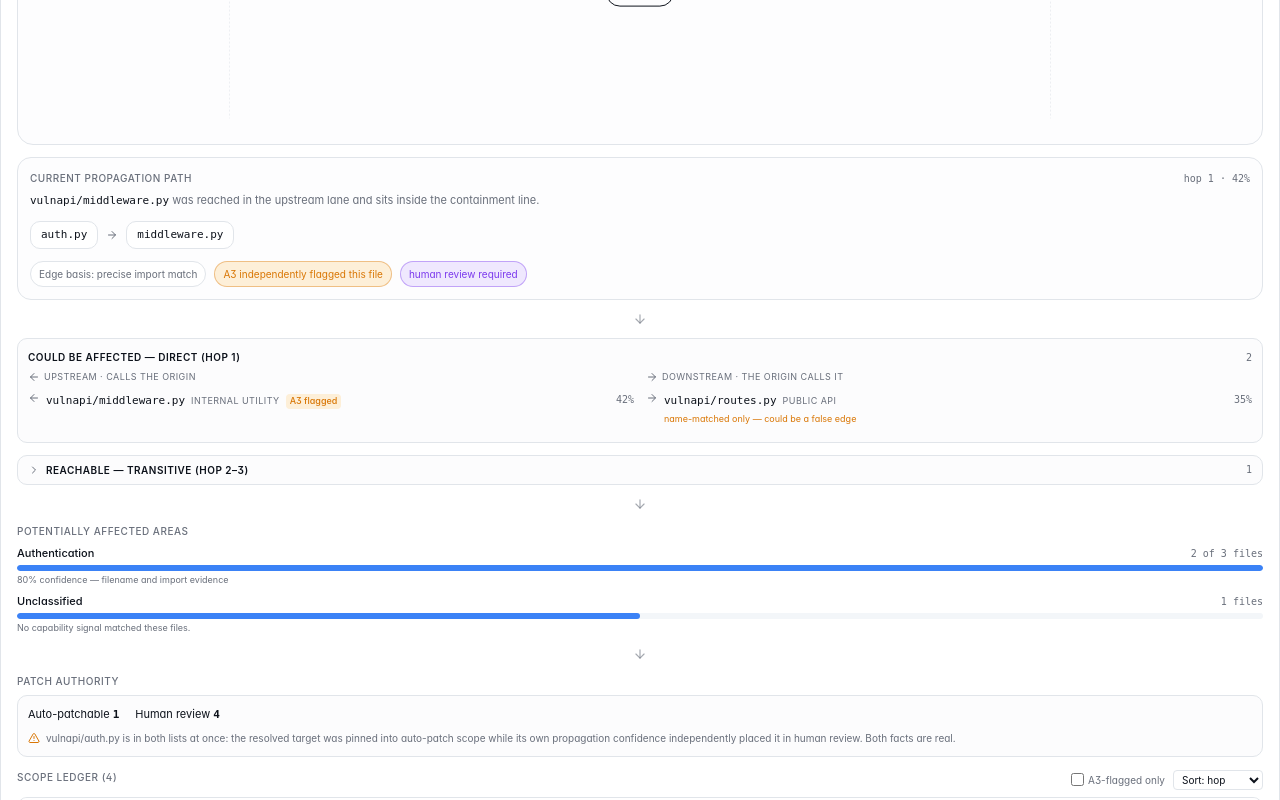
BlastRadiusPanel › shows a readable propagation path for the selected focus file
(page scrolled)
Click the text "vulnapi/routes.py" at (720, 401), box [664,392,777,410]
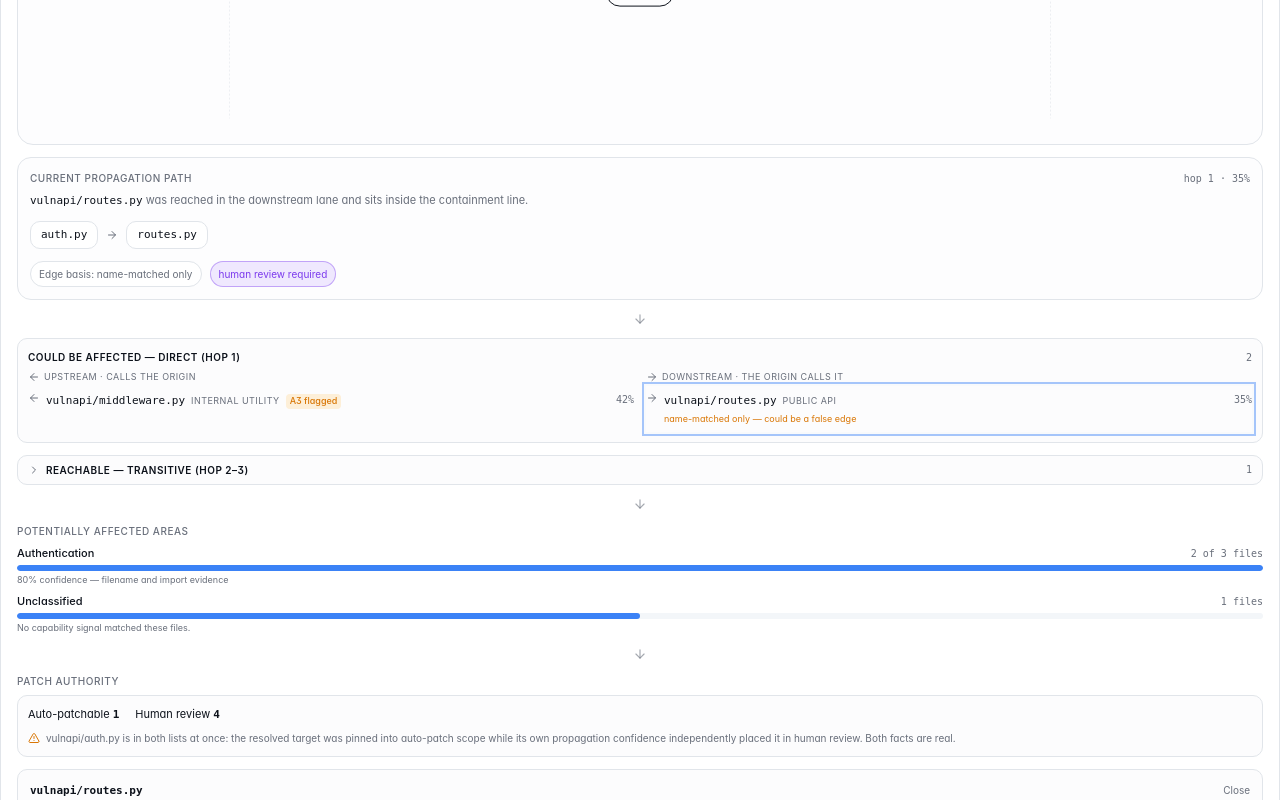
Expected: the text "auth.py" is shown, [30,221,98,249]
Now the text "reached in the downstream lane" is shown, box [170,193,338,207]
Now the text "routes.py" is shown, box [126,221,208,249]
